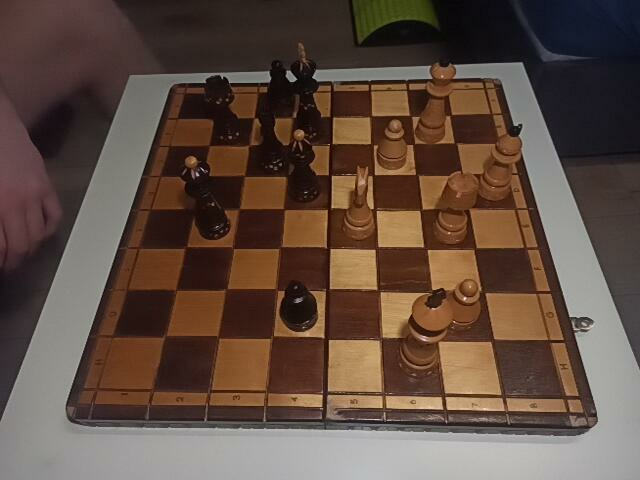B-Bishop: (286, 129, 318, 202)
B-King: (290, 42, 323, 142)
B-Knight: (253, 102, 286, 176)
B-Pawn: (281, 282, 319, 331), (267, 60, 293, 108)
B-Queen: (179, 155, 230, 239)
B-Rook: (201, 75, 243, 143)
W-Bishop: (481, 127, 521, 203)
W-King: (396, 289, 451, 378)
W-Knight: (342, 165, 374, 241)
W-Pawn: (444, 280, 482, 331), (379, 119, 408, 169)
W-Queen: (416, 58, 455, 143)
W-Rook: (436, 171, 478, 245)
